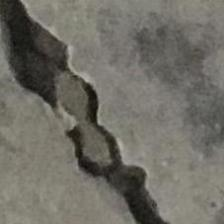Crack: (0, 1, 198, 224)
